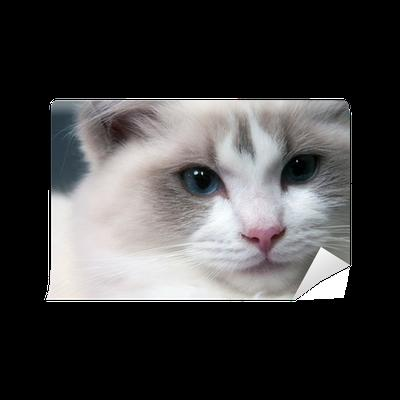ragdoll: (108, 101, 356, 306)
